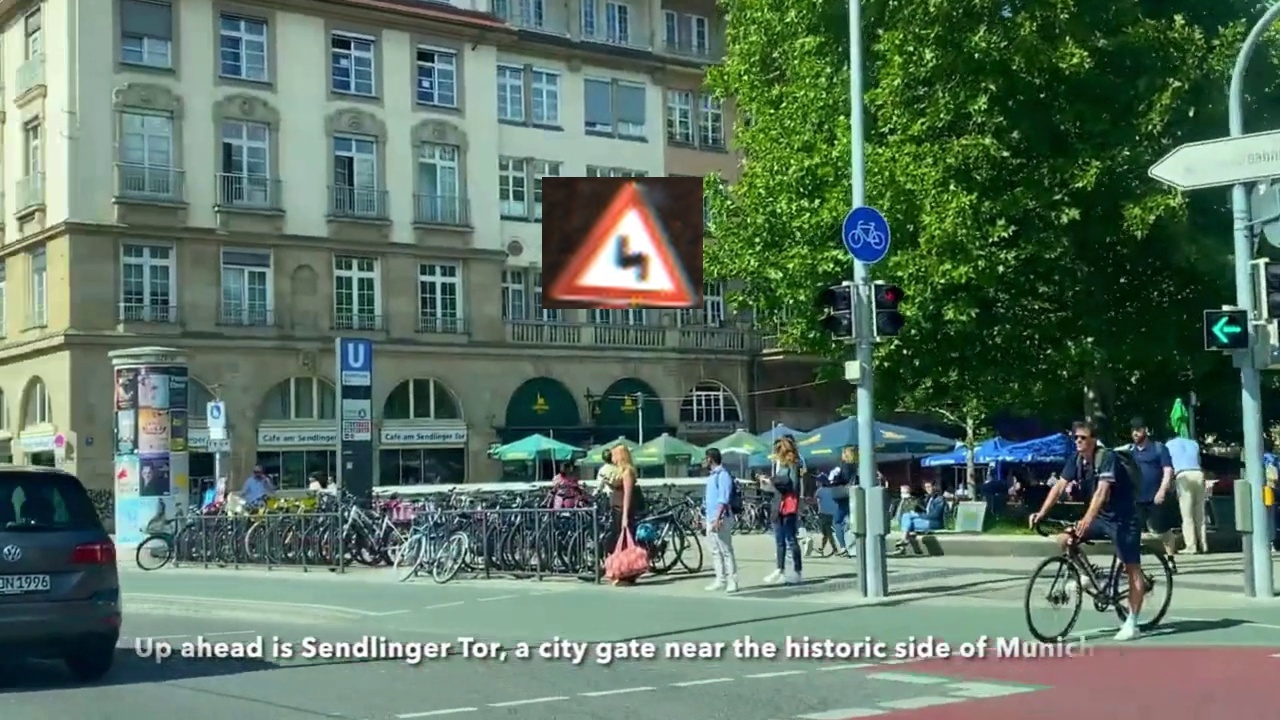Double curve: (542, 177, 703, 309)
